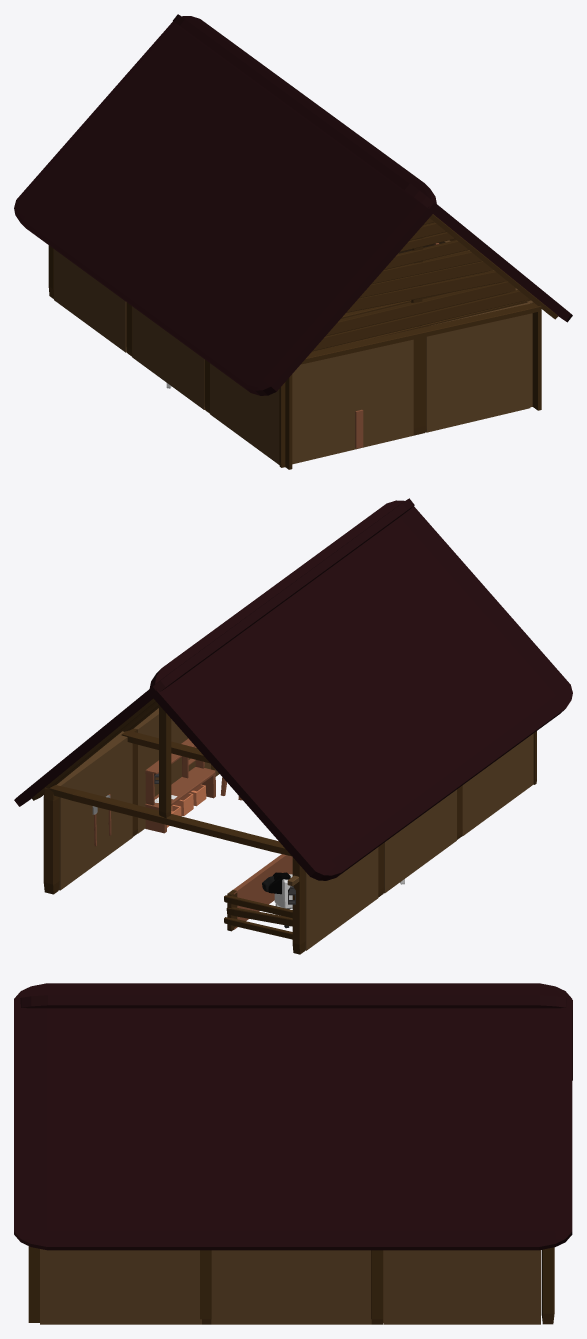
Rendered from _cheune.fbx.
3 views of the same model, one above another, from view 1: azimuth 30°, elevation 25°; view 2: azimuth 150°, elevation 25°; view 3: azimuth 270°, elevation 25° (orthographic). The views are drawn at different scales.
Visible parts, largest first — view 1: Lamp, Cube.012, Cube.013, Cube.017, Cube.001, Cube.002, Cube.004, Holz.039, Holz.035, Holz.038, Holz.040, Holz.041 (+7 smaller); view 2: Lamp, Cube.006, Cube.017, Cube.004, Cube.002, Cube.001, Holz.047, Cube.008, Holz.004, Cube.011, Holz.037, Holz.003 (+5 smaller); view 3: Cube.017, Cube.010, Cube.008, Cube.006, Lamp, Holz.004, Holz.005, Holz.007, Holz.006.
Boxes of the visible parts, x1,y1,x2,y2 form: Lamp: (14,16,436,395); Cube.012: (292,339,413,464); Cube.013: (425,302,530,432); Cube.017: (173,14,572,322); Cube.001: (210,363,279,464); Cube.002: (132,306,205,409); Cube.004: (54,249,126,352); Holz.039: (312,290,529,351); Holz.035: (301,303,541,364); Holz.038: (326,281,515,336); Holz.040: (346,270,506,312); Holz.041: (359,261,492,298); Lamp: (149,500,572,880); Cube.006: (56,731,132,890); Cube.017: (14,498,414,806); Cube.004: (305,847,378,950); Cube.002: (384,789,456,893); Cube.001: (462,733,533,836); Holz.047: (48,785,291,856); Cube.008: (133,708,210,833); Holz.004: (43,787,59,894); Cube.011: (233,854,292,929); Holz.037: (159,705,171,818); Holz.003: (292,857,305,954); Cube.017: (14,983,572,1250); Cube.010: (40,1249,201,1324); Cube.008: (211,1250,371,1324); Cube.006: (383,1250,540,1324); Lamp: (20,995,572,1080); Holz.004: (541,1247,554,1324); Holz.005: (371,1250,383,1324); Holz.007: (28,1246,39,1322); Holz.006: (200,1250,211,1324).
Bounding box in the file's own units: 1518 × 1190 × 2097.
